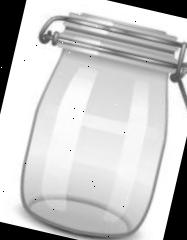glass: (9, 7, 187, 240)
